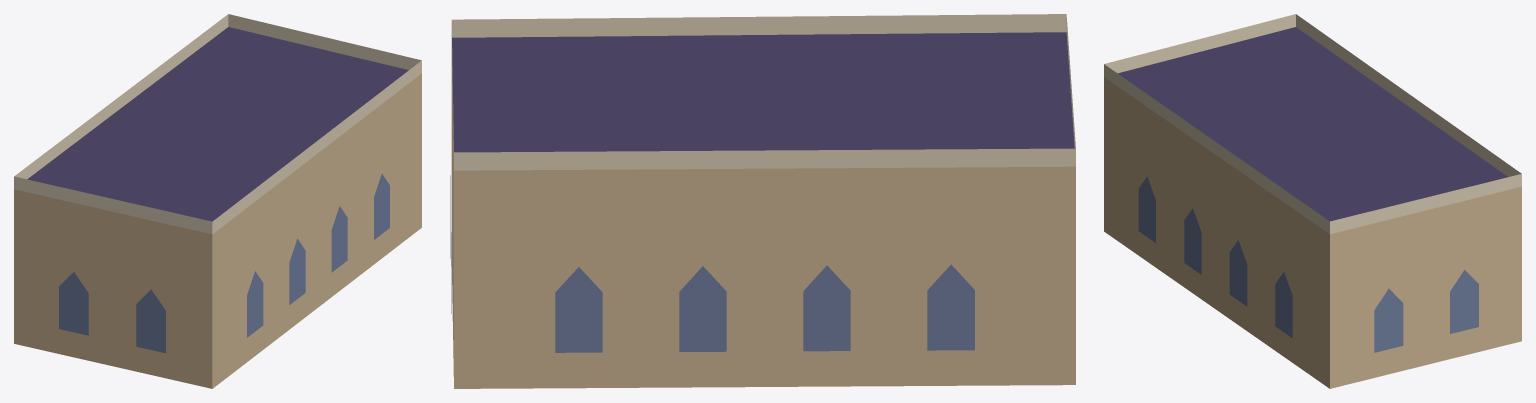
The model's file is b-066-day.glb.
The picture shows the model from 3 angles, left to right: view 1: azimuth 30°, elevation 25°; view 2: azimuth 150°, elevation 25°; view 3: azimuth 270°, elevation 25°; orthographic projection. The views are drawn at different scales.
Visible parts, largest first — view 1: campus/b-066-day-0; view 2: campus/b-066-day-0; view 3: campus/b-066-day-0.
Boxes of the visible parts, left/top/right/bottom form: campus/b-066-day-0: left=14, top=14, right=421, bottom=388; campus/b-066-day-0: left=450, top=14, right=1075, bottom=388; campus/b-066-day-0: left=1104, top=14, right=1521, bottom=388.
Bounding box in the file's own units: 18.99 × 7.15 × 16.16.
